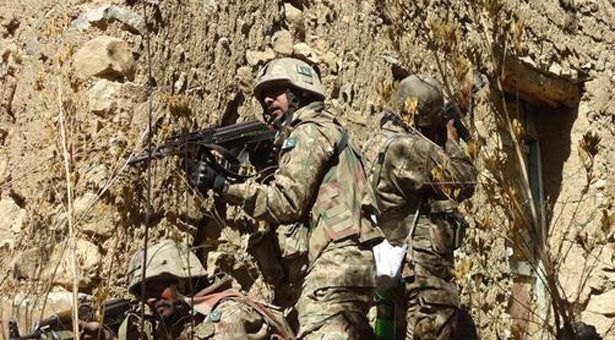gun: (111, 106, 282, 178)
uniform: (236, 69, 374, 325), (359, 74, 464, 321)
